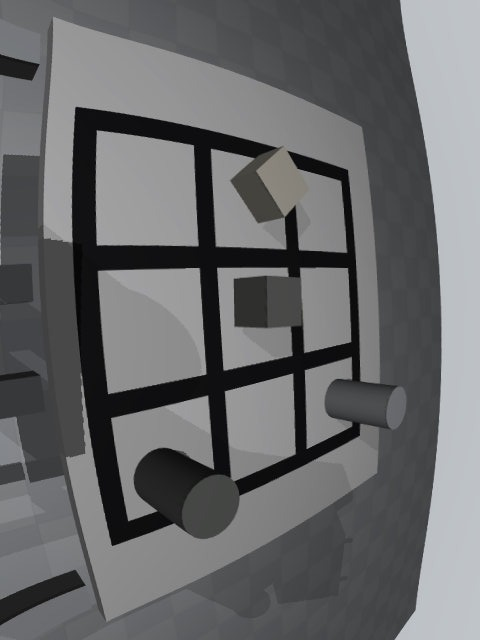can: (324, 379, 407, 430)
cube: (234, 276, 302, 328)
cylinder: (133, 448, 240, 539)
foam: (230, 146, 309, 223)
